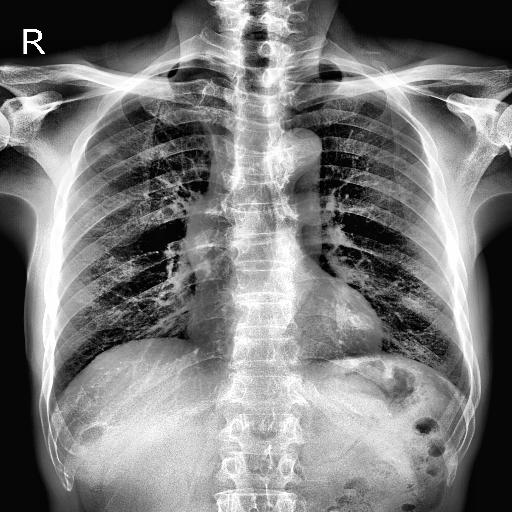0- Aortic enlargement: (268, 128, 323, 179), (262, 126, 323, 170), (272, 126, 324, 170)
11- Pleural thickening: (150, 54, 222, 64)
13- Pulmonary fibrosis: (96, 139, 118, 155)
7- Lung Opacity: (96, 142, 117, 158), (97, 143, 117, 154)
